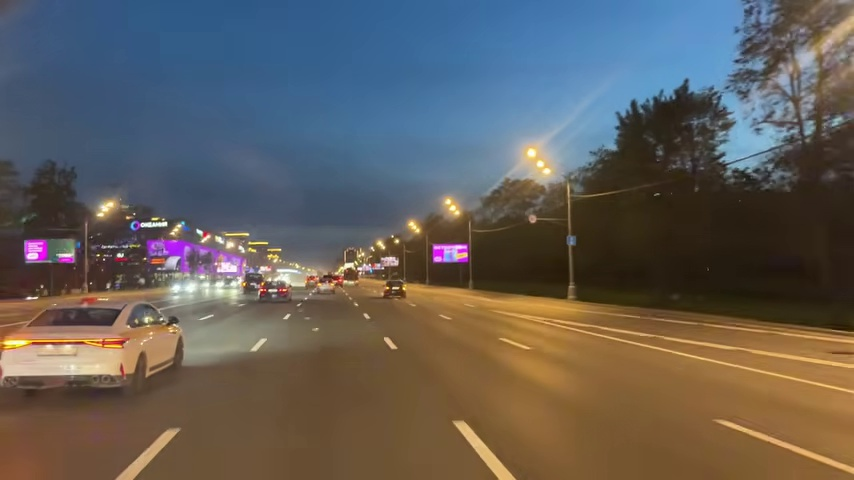acesa: (522, 144, 550, 177), (441, 197, 463, 220), (95, 198, 118, 219), (407, 219, 422, 235)
